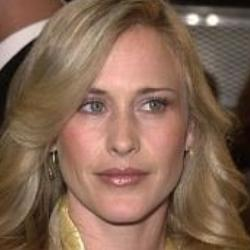face: (9, 1, 240, 235)
